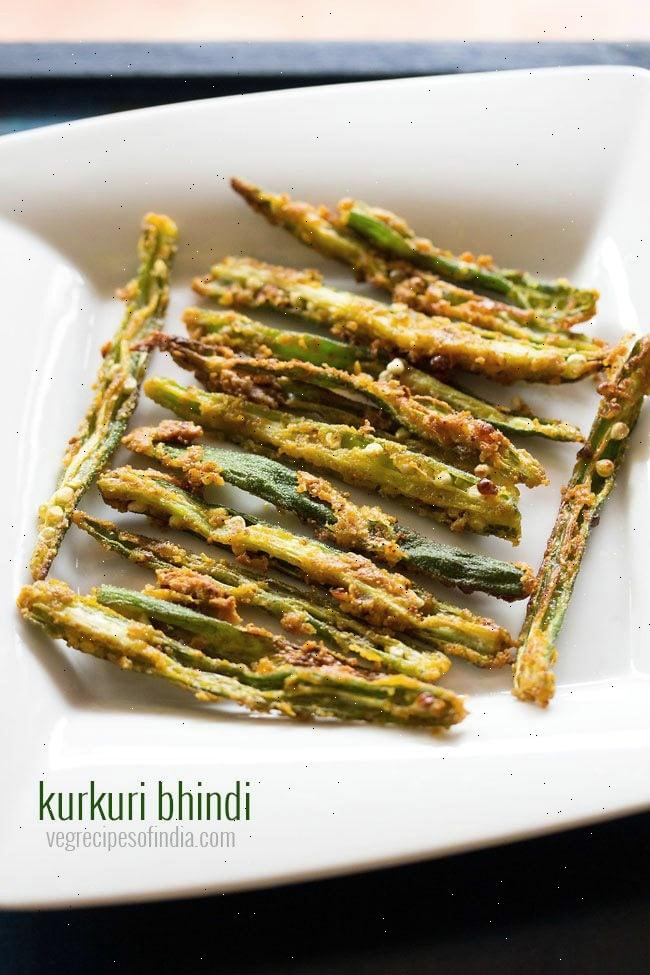bhindi: (48, 188, 615, 693)
